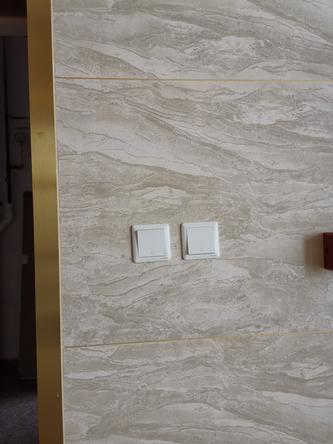switch: (132, 222, 170, 263), (186, 221, 223, 257)
